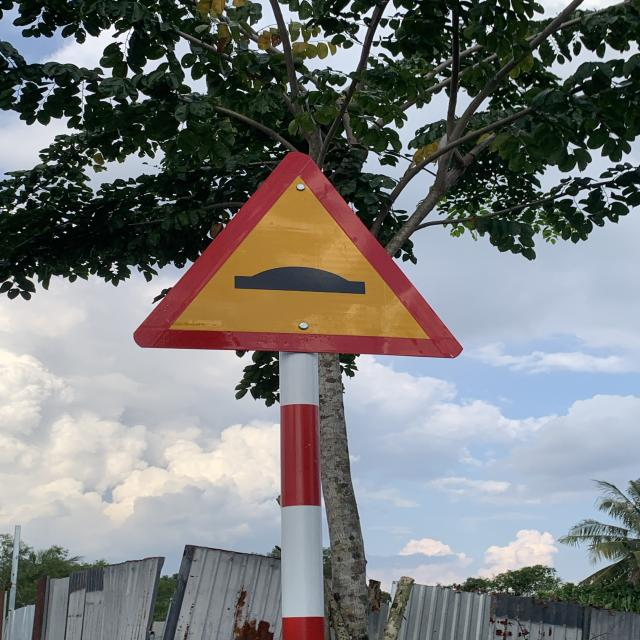Duong_Cong_Ben_Phai: (132, 151, 462, 356)
